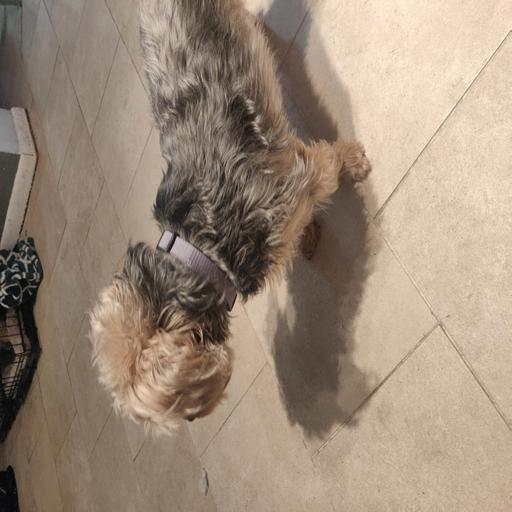dog: (84, 147, 374, 437)
